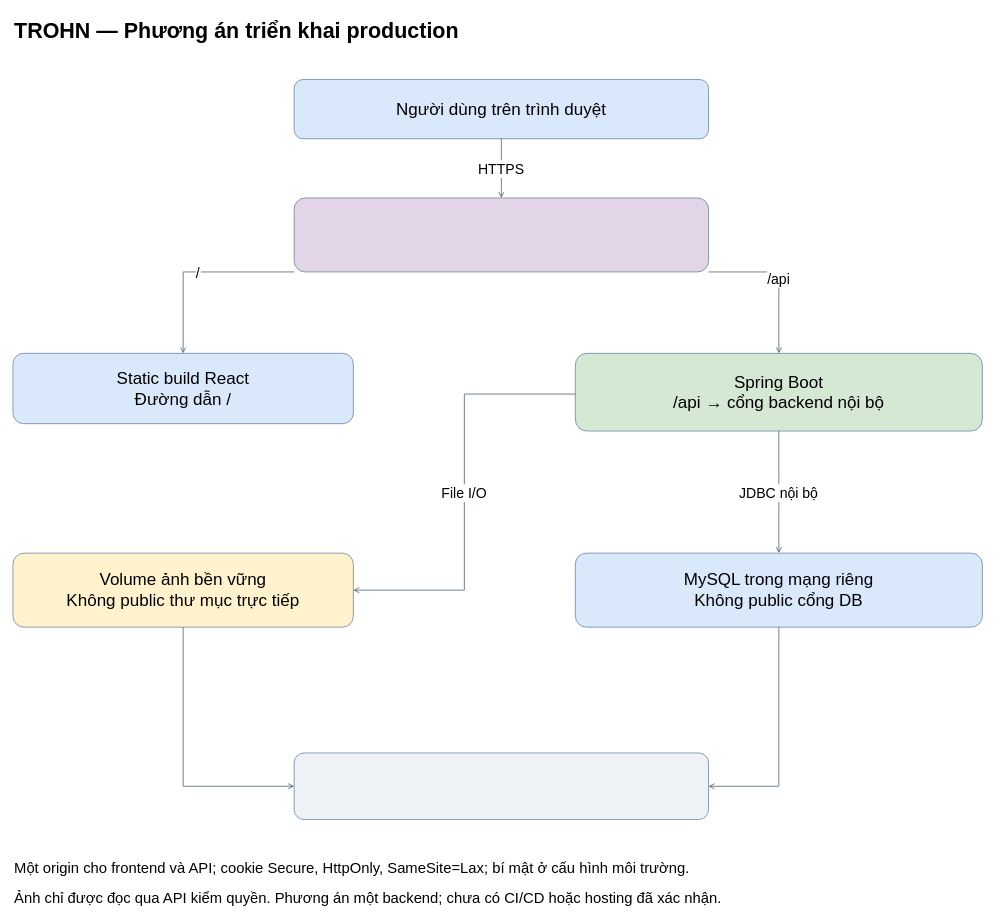
The diagram is 1003 pixels wide and 918 high, and some of its shapes have lost their labels. Each missing label, with the box of its shape:
Reverse proxy HTTPS Tên miền và chứng chỉ cấu hình khi triển khai: (293, 197, 709, 272)
Sao lưu DB + vùng ảnh Kiểm tra khôi phục ở môi trường riêng: (293, 752, 709, 820)
